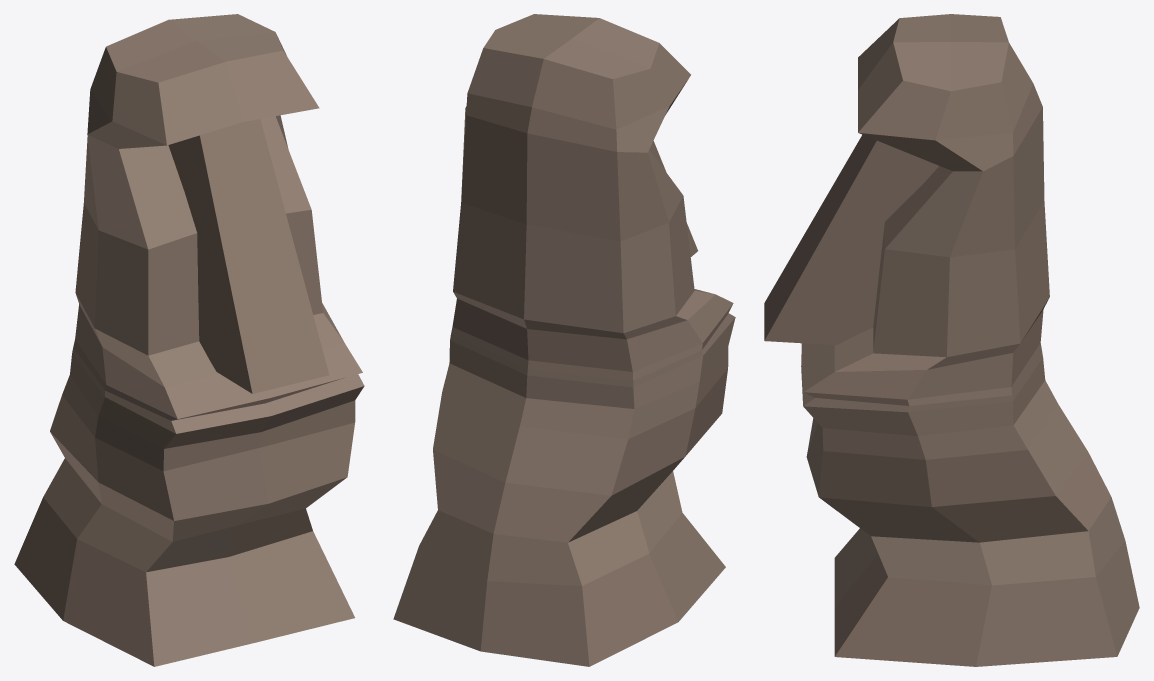
Rendered from Statue7.fbx.
3 views of the same model, side by side, from view 1: azimuth 30°, elevation 25°; view 2: azimuth 150°, elevation 25°; view 3: azimuth 270°, elevation 25° (orthographic). The views are drawn at different scales.
Parts seen in each view (by area): view 1: Cube.001; view 2: Cube.001; view 3: Cube.001.
Part boxes in pixels (left/top/right/bottom): Cube.001: left=14, top=14, right=364, bottom=666; Cube.001: left=393, top=14, right=735, bottom=666; Cube.001: left=764, top=14, right=1139, bottom=666.
Bounding box in the file's own units: 163 × 359 × 216.
